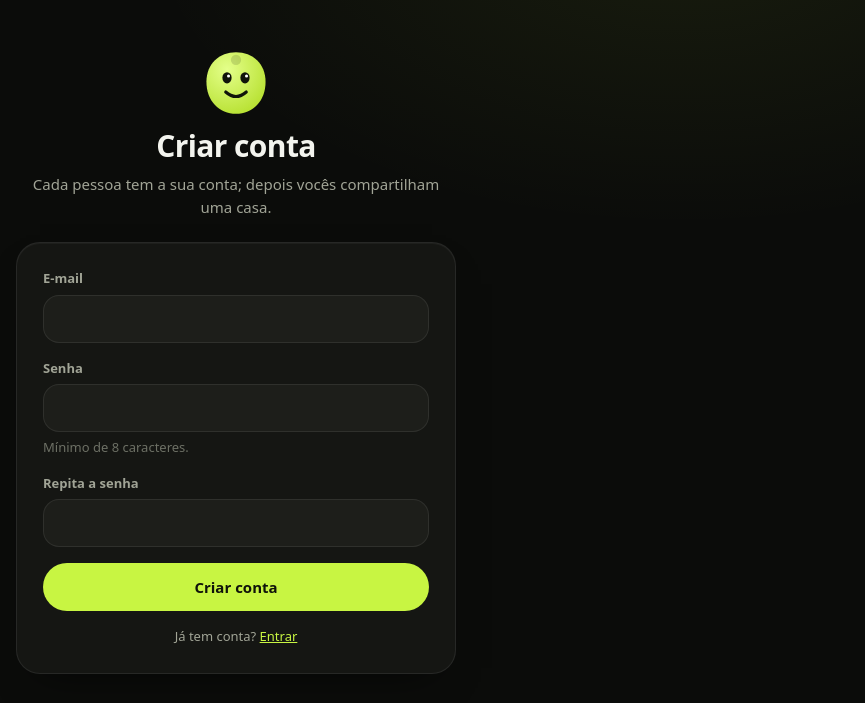
it: cadastro e recuperação de senha › exige senha forte o bastante e confirmação igual
This screenshot has width=865, height=703.
In the field labelled "E-mail": (236, 318) [43,294,429,342], type "ana@exemplo.com"
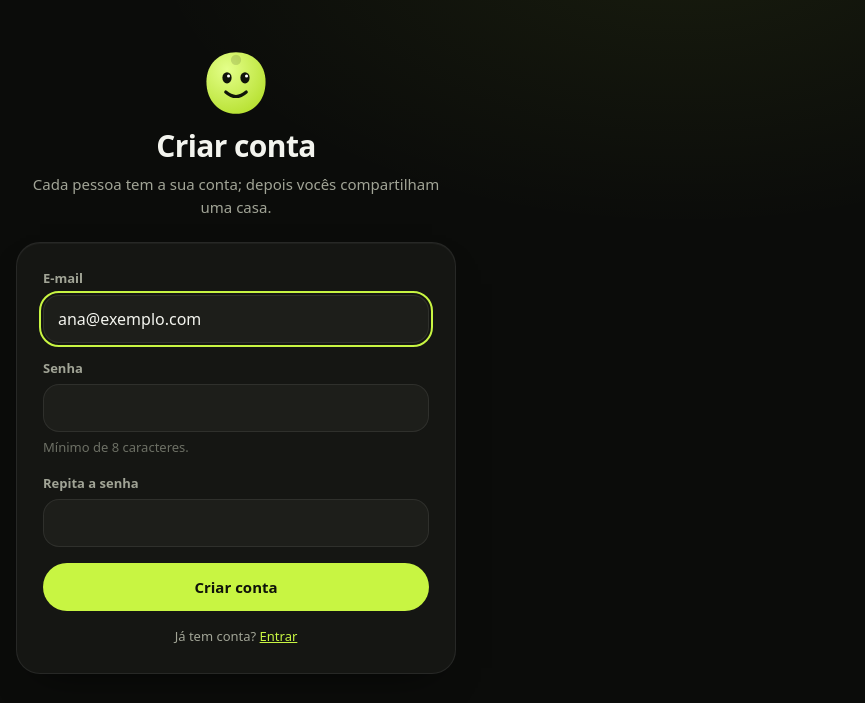
In the password field labelled "Senha": (236, 408) [43,384,429,432], type "curta"
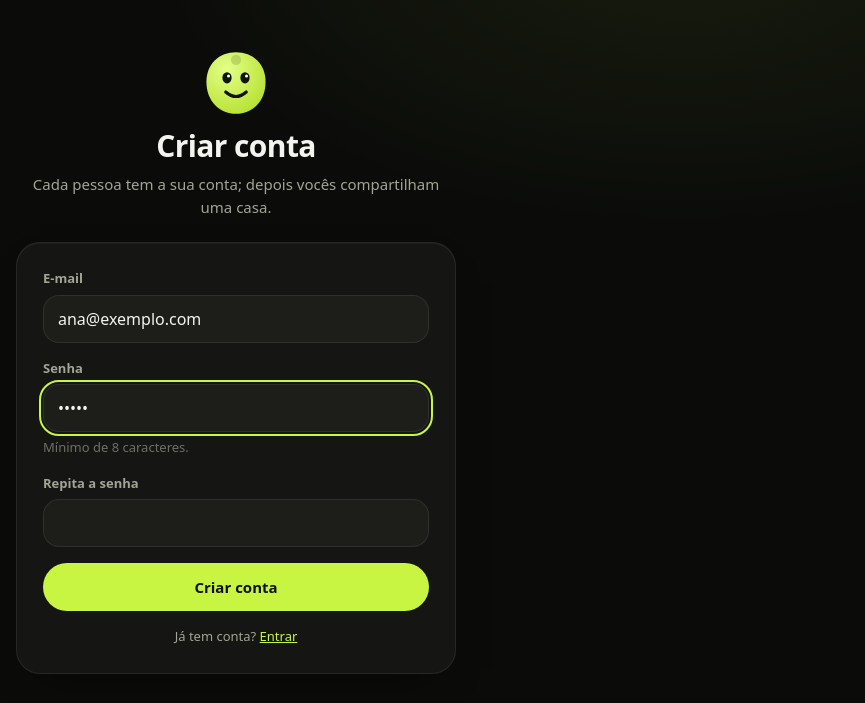
In the password field labelled "Repita a senha": (236, 523) [43,499,429,547], type "outra"
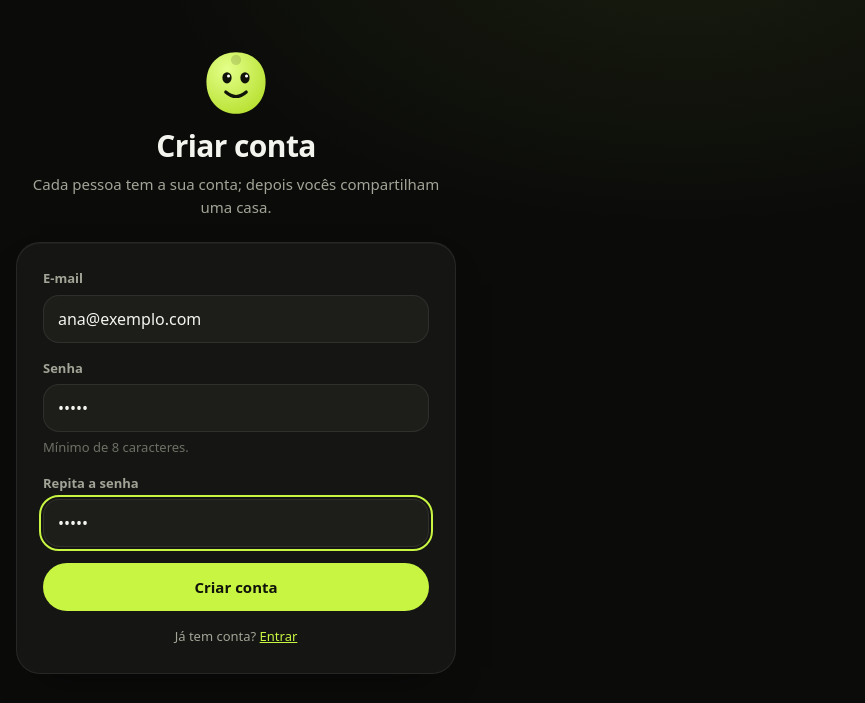
Click the button "Criar conta": (236, 587) [43,563,429,611]
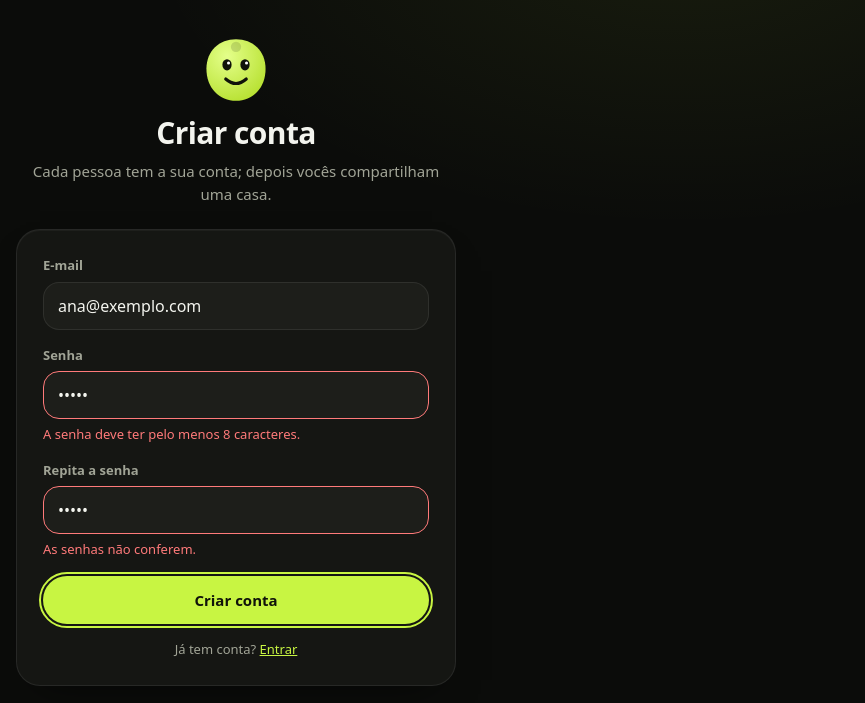
Now the text "A senha deve ter pelo menos 8 caracteres." is shown, box [43,425,300,443]
Now the text "As senhas não conferem." is shown, box [43,540,196,558]
